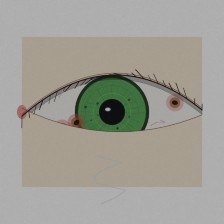foreign_body_visible: (61, 110, 92, 135)
